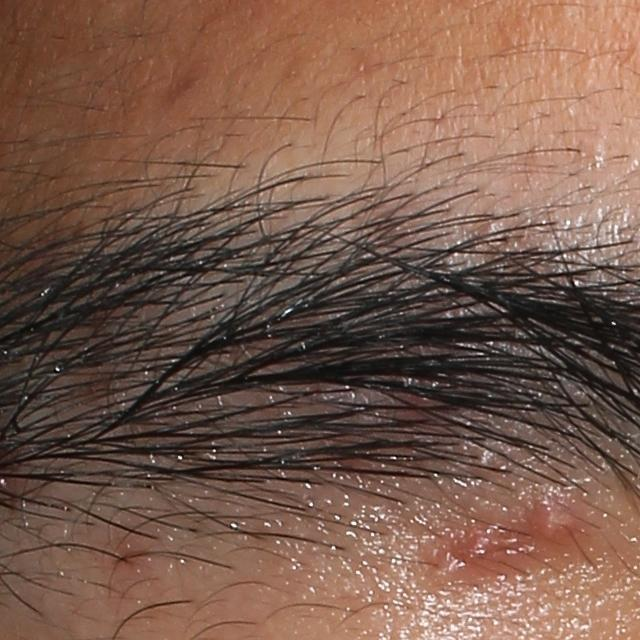pustule: (420, 518, 530, 586), (537, 496, 580, 549)
